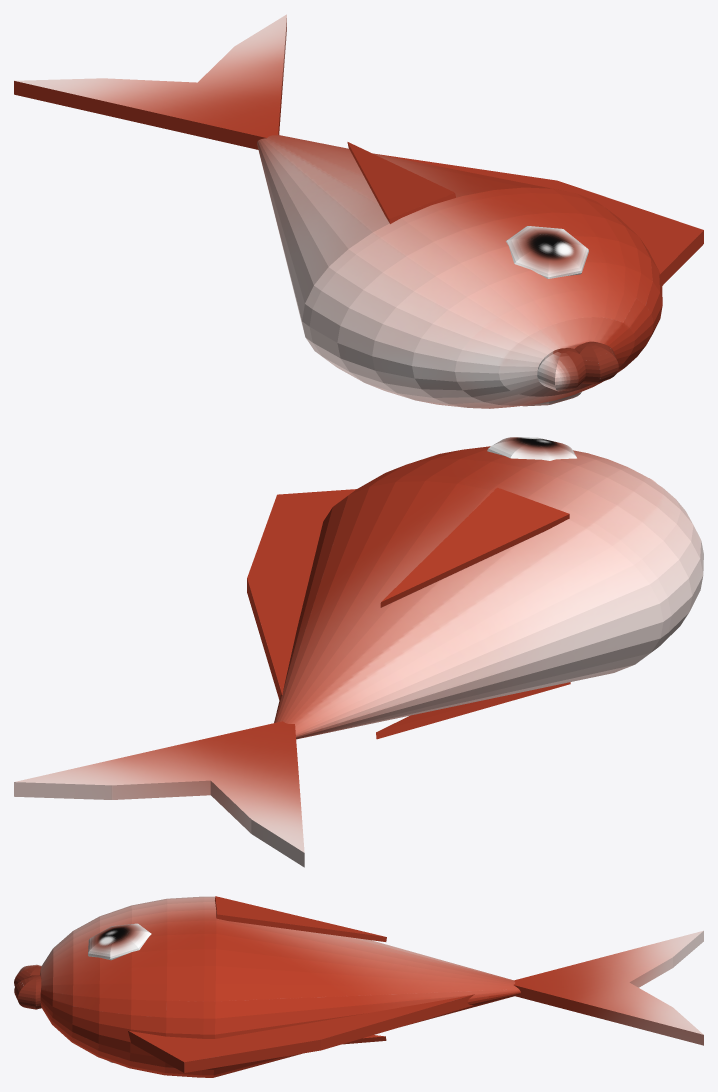
The model's file is pezfinal.fbx.
3 renders of one model, top to bottom at view 1: azimuth 30°, elevation 25°; view 2: azimuth 150°, elevation 25°; view 3: azimuth 270°, elevation 25°, orthographic. The views are drawn at different scales.
Visible parts, largest first — view 1: Cone, Cube, Cube.003, Cube.002, Sphere.002, Sphere.004, Sphere.003; view 2: Cone, Cube, Cube.003, Cube.002, Cube.001, Sphere.002; view 3: Cone, Cube, Cube.003, Cube.002, Sphere.002, Sphere.003, Sphere.004.
Boxes of the visible parts, x1=… form: Cone: x1=257, y1=135, x2=662, y2=408; Cube: x1=14, y1=14, x2=286, y2=149; Cube.003: x1=377, y1=154, x2=703, y2=285; Cube.002: x1=347, y1=142, x2=455, y2=223; Sphere.002: x1=506, y1=226, x2=588, y2=278; Sphere.004: x1=537, y1=348, x2=585, y2=391; Sphere.003: x1=574, y1=341, x2=618, y2=384; Cone: x1=274, y1=446, x2=703, y2=739; Cube: x1=14, y1=721, x2=304, y2=867; Cube.003: x1=247, y1=489, x2=356, y2=700; Cube.002: x1=380, y1=487, x2=569, y2=607; Cube.001: x1=376, y1=682, x2=570, y2=739; Sphere.002: x1=487, y1=437, x2=576, y2=460; Cone: x1=40, y1=896, x2=520, y2=1077; Cube: x1=513, y1=930, x2=703, y2=1045; Cube.003: x1=128, y1=994, x2=474, y2=1072; Cube.002: x1=215, y1=896, x2=386, y2=941; Sphere.002: x1=88, y1=923, x2=151, y2=960; Sphere.003: x1=14, y1=975, x2=41, y2=1009; Sphere.004: x1=14, y1=964, x2=41, y2=986.
Size of the model in its own units: 97.47 by 43.86 by 195.
Materials: 9 (9 with a texture image).
